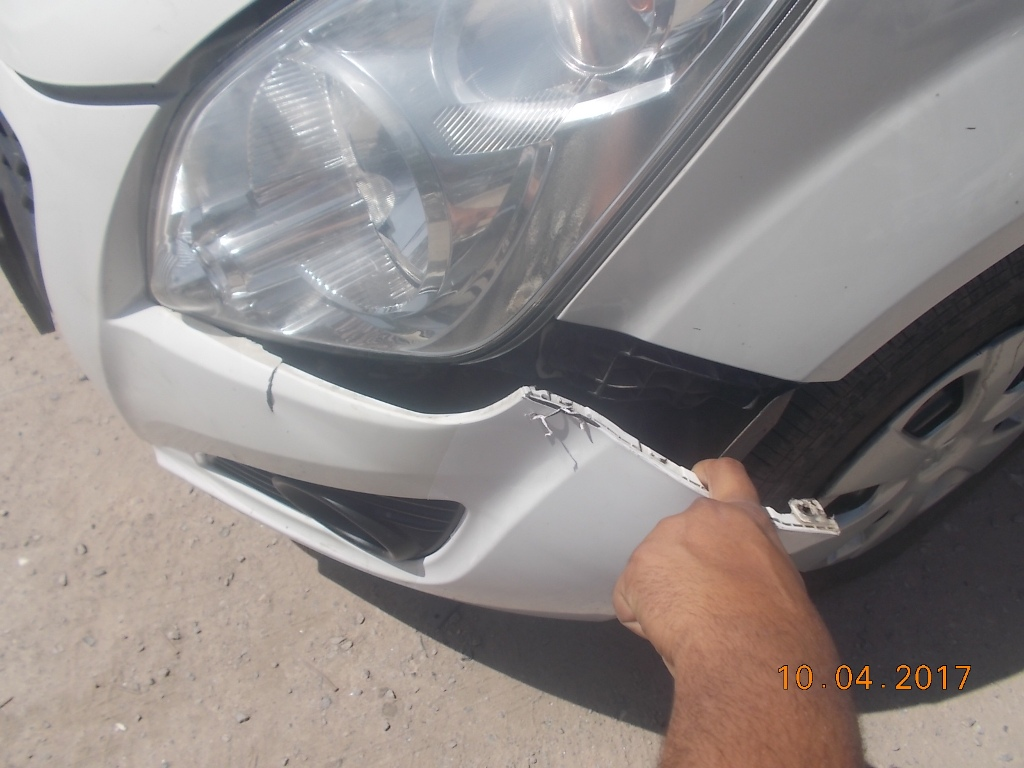Dislocation: (519, 297, 857, 535)
